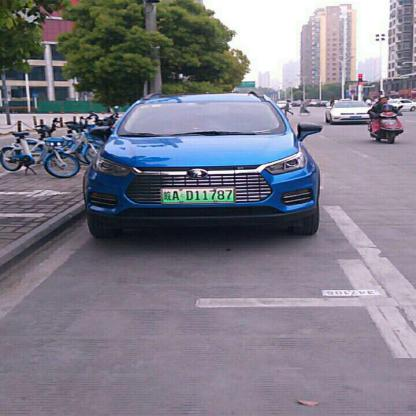lp: (162, 187, 233, 202)
